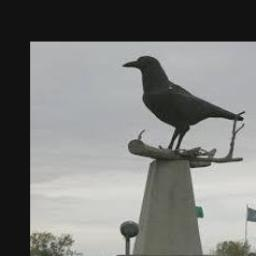Crow: (123, 55, 245, 156)
